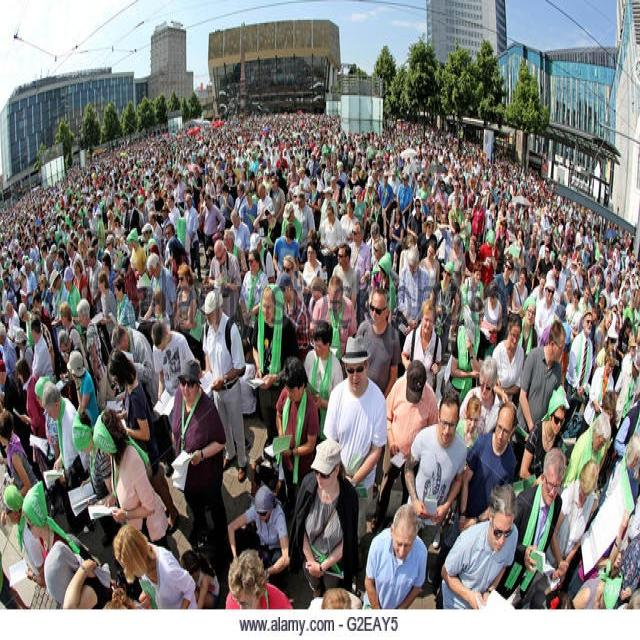body: (0, 108, 633, 206), (167, 356, 233, 580), (323, 334, 388, 544), (0, 200, 179, 276), (438, 479, 520, 638), (286, 436, 360, 610), (491, 446, 569, 610), (87, 406, 172, 556), (375, 357, 441, 534), (69, 407, 147, 550), (402, 388, 469, 552), (109, 519, 199, 639), (200, 286, 250, 482), (39, 375, 96, 538), (251, 280, 302, 461), (457, 398, 519, 534), (105, 344, 159, 500), (482, 207, 640, 260), (13, 357, 63, 516), (20, 478, 89, 591), (360, 501, 430, 611), (225, 479, 294, 588), (41, 380, 88, 540), (0, 276, 96, 354), (274, 357, 321, 511), (544, 458, 602, 580), (515, 318, 567, 435), (527, 259, 640, 311), (354, 286, 402, 401), (303, 319, 345, 447), (308, 274, 358, 381), (42, 538, 115, 610), (151, 318, 197, 428), (518, 386, 568, 485), (1, 485, 46, 591), (558, 410, 613, 496), (109, 323, 161, 413), (447, 294, 488, 404), (225, 548, 295, 611), (597, 433, 640, 533), (575, 352, 617, 444), (400, 298, 442, 388), (240, 246, 271, 364), (458, 355, 503, 435), (0, 408, 40, 498), (565, 308, 595, 426), (397, 244, 430, 350), (252, 435, 296, 513), (73, 296, 108, 394), (491, 311, 526, 406), (64, 346, 100, 433), (609, 352, 639, 453), (206, 237, 242, 320), (607, 487, 639, 580), (346, 219, 373, 328), (142, 251, 178, 332), (610, 386, 639, 478), (282, 283, 314, 366), (180, 546, 221, 610), (414, 206, 470, 252), (430, 254, 458, 343), (568, 565, 624, 609), (251, 204, 284, 277), (275, 252, 305, 330), (330, 240, 359, 318), (318, 199, 344, 285), (199, 192, 226, 272), (111, 272, 137, 354), (172, 260, 198, 340), (477, 283, 503, 363), (370, 251, 397, 328), (613, 536, 640, 612), (491, 256, 515, 341), (58, 299, 87, 369), (207, 240, 232, 320), (237, 334, 259, 424), (533, 277, 560, 349), (182, 192, 202, 284), (293, 191, 317, 265), (229, 207, 252, 284), (29, 316, 55, 382), (272, 220, 301, 278), (454, 394, 483, 452), (96, 271, 119, 343), (463, 258, 486, 330), (592, 306, 618, 369), (517, 292, 540, 363), (248, 230, 276, 286), (0, 551, 26, 611), (222, 226, 249, 278), (614, 316, 633, 388), (476, 226, 498, 288), (607, 570, 640, 610), (256, 181, 277, 240), (307, 588, 364, 609), (395, 172, 413, 238), (531, 271, 547, 345), (562, 288, 584, 341), (279, 202, 303, 250), (419, 237, 441, 288), (104, 586, 147, 612), (377, 174, 394, 239), (2, 358, 21, 416), (301, 242, 326, 286), (416, 216, 439, 263), (148, 289, 173, 331), (56, 328, 84, 364), (469, 191, 486, 248), (511, 265, 529, 317), (366, 220, 387, 264), (594, 331, 618, 369), (463, 232, 481, 282), (339, 199, 361, 237), (389, 207, 406, 256), (372, 193, 389, 239), (620, 340, 638, 375), (219, 180, 235, 212), (311, 277, 328, 302), (633, 311, 640, 352)
